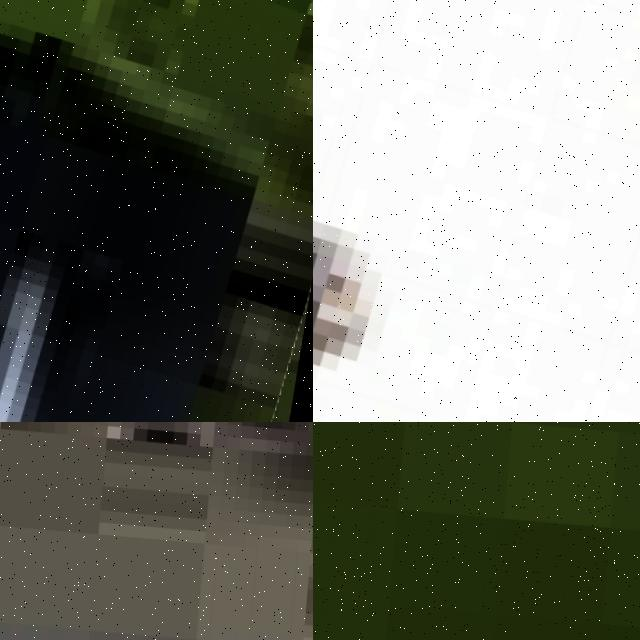drone: (313, 0, 640, 422), (0, 0, 313, 422)
